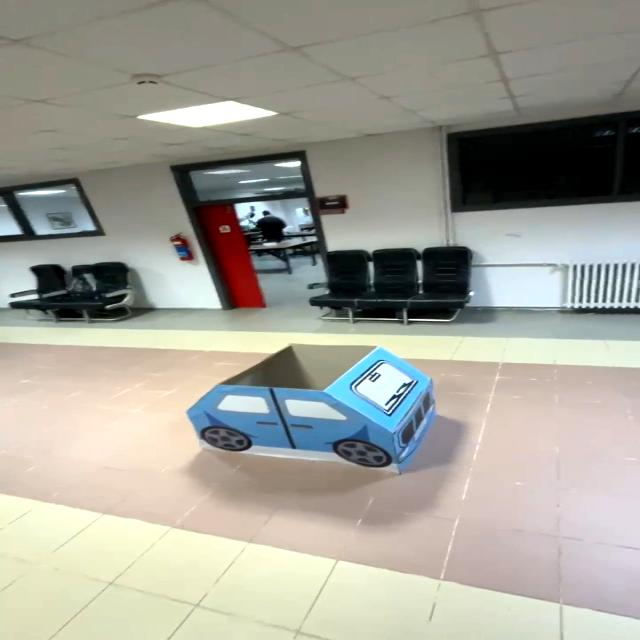blue_car: (162, 334, 455, 491)
